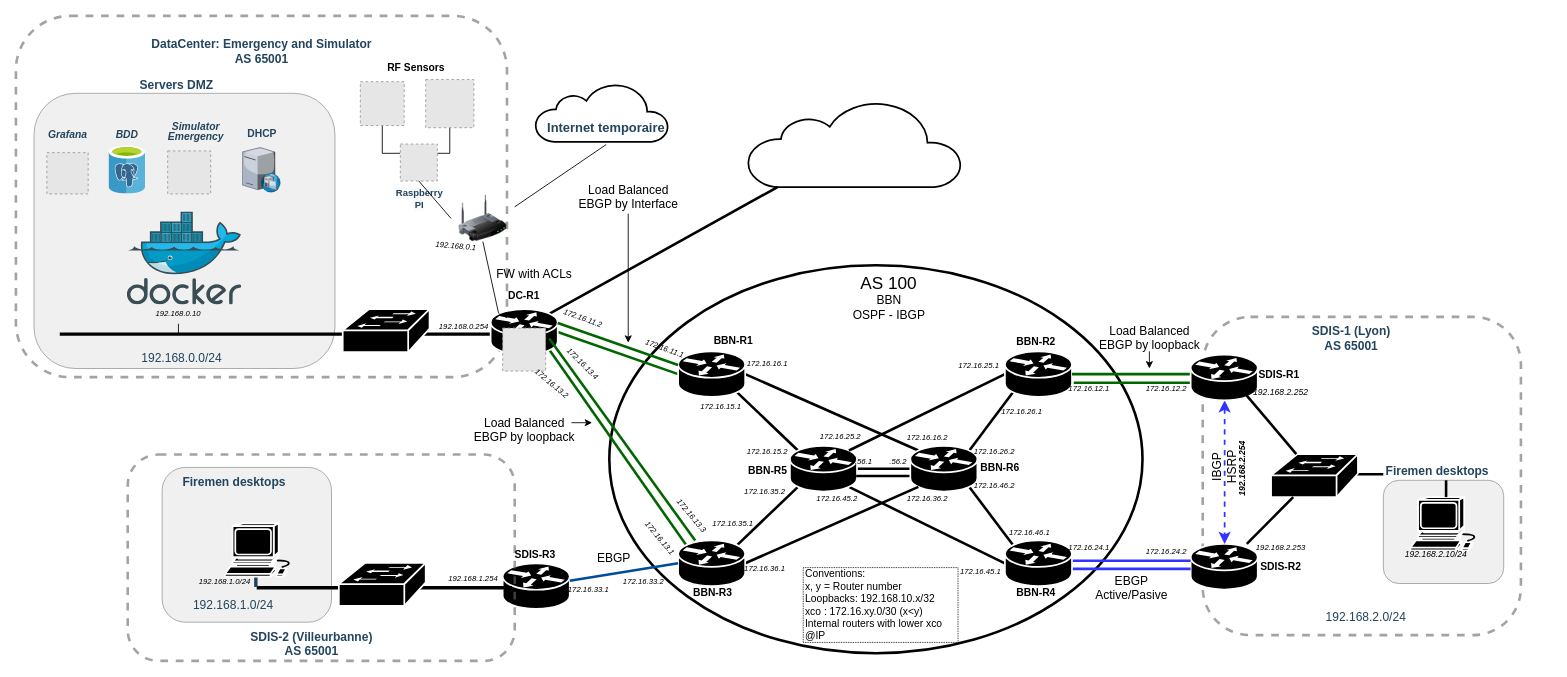
Image size: 1567x677. Some labels were removed from this diagram. Grey dashed boxes stand in for pictures. Here are the shapes that lost their labels. From the top down, the centre of each, then its label:
At point 854,143: "Internet".
At point 482,218: "4G Routeur".
